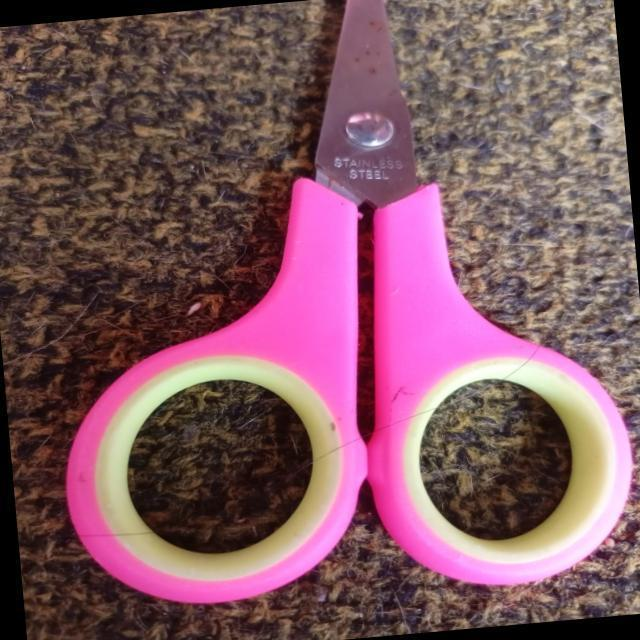scissors: (12, 0, 640, 630)
